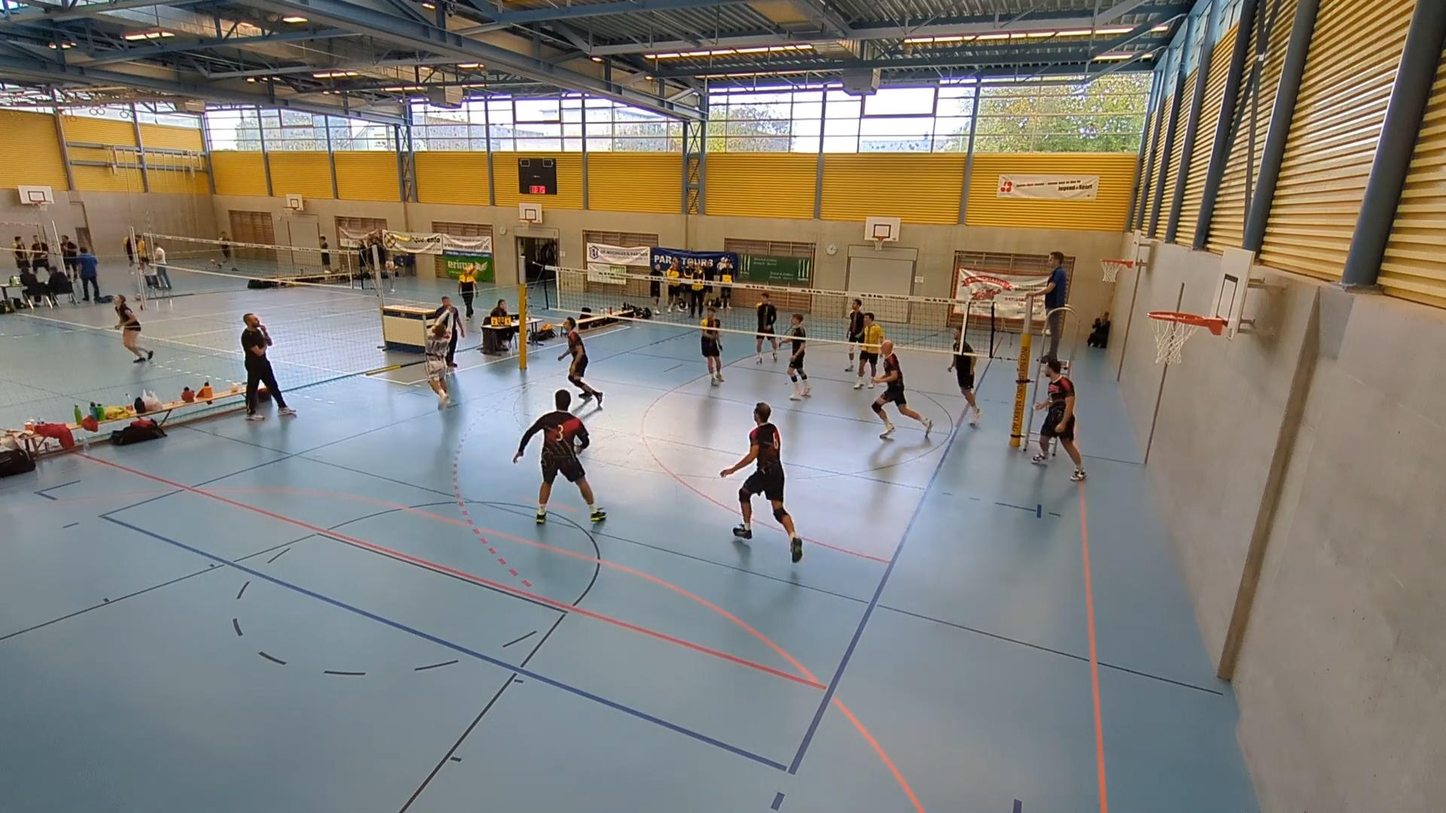alzata: (417, 304, 457, 410)
